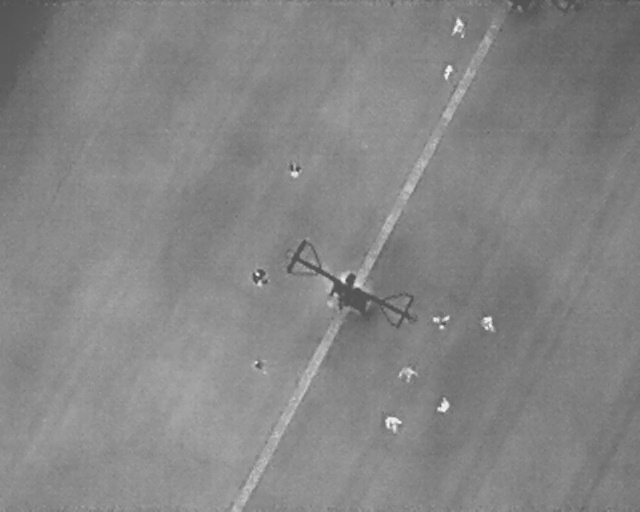Person: (383, 413, 403, 435), (395, 366, 418, 384), (451, 16, 467, 40), (439, 60, 456, 82), (251, 268, 269, 287), (432, 313, 450, 331), (479, 315, 496, 334), (435, 394, 451, 414), (289, 162, 303, 180), (253, 359, 267, 373)
